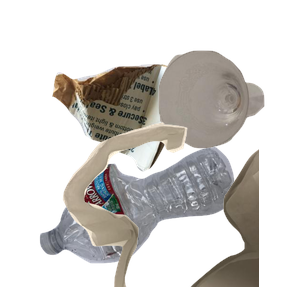cardboard: (50, 62, 228, 226)
glass: (156, 48, 300, 189)
plastic: (37, 144, 265, 300)
trash: (60, 120, 300, 300)
